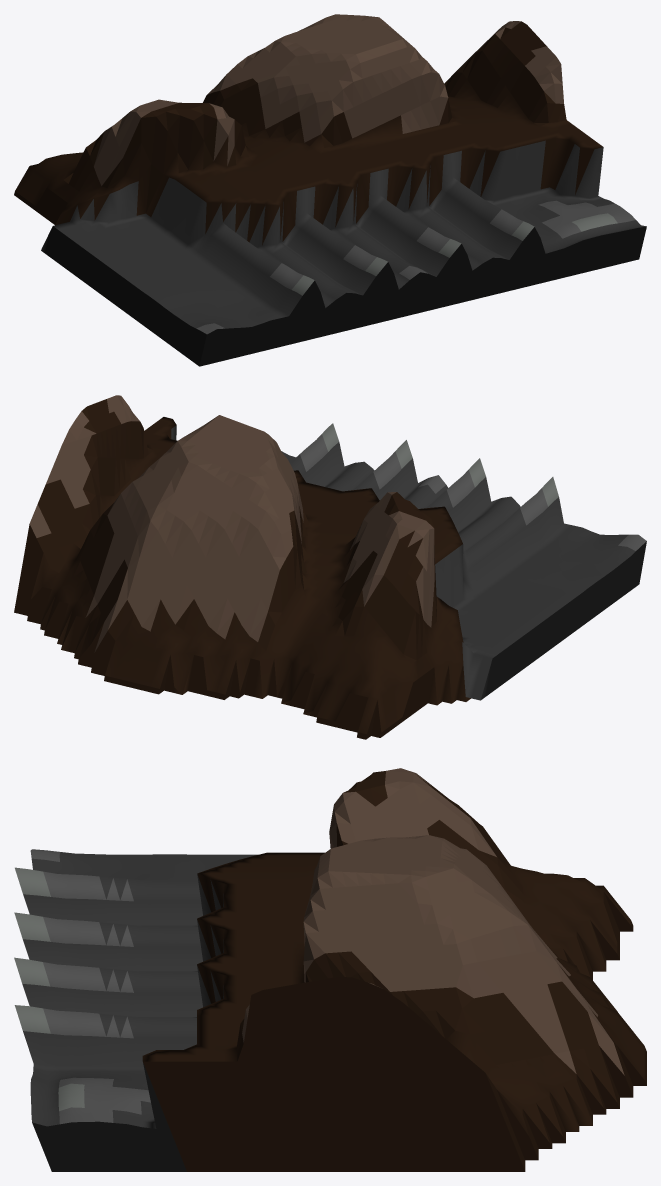
The model's file is ixm_boss_159.glb.
3 renders of one model, top to bottom at view 1: azimuth 30°, elevation 25°; view 2: azimuth 150°, elevation 25°; view 3: azimuth 270°, elevation 25°, orthographic. The views are drawn at different scales.
Visible parts, largest first — view 1: ixm_boss_159; view 2: ixm_boss_159; view 3: ixm_boss_159.
Boxes of the visible parts, box(x1,y1,x2,y2) form: ixm_boss_159: box(14, 14, 646, 366); ixm_boss_159: box(14, 395, 646, 739); ixm_boss_159: box(14, 768, 646, 1171).
Bounding box in the file's own units: 24 × 9 × 23.4.
